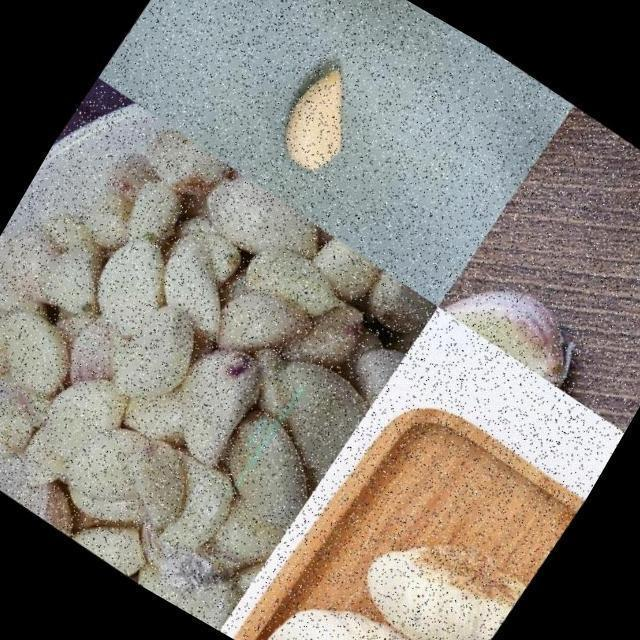garlic: (0, 74, 453, 640), (338, 495, 535, 640), (434, 248, 606, 392), (253, 565, 473, 640), (262, 52, 384, 186), (605, 159, 640, 299)
